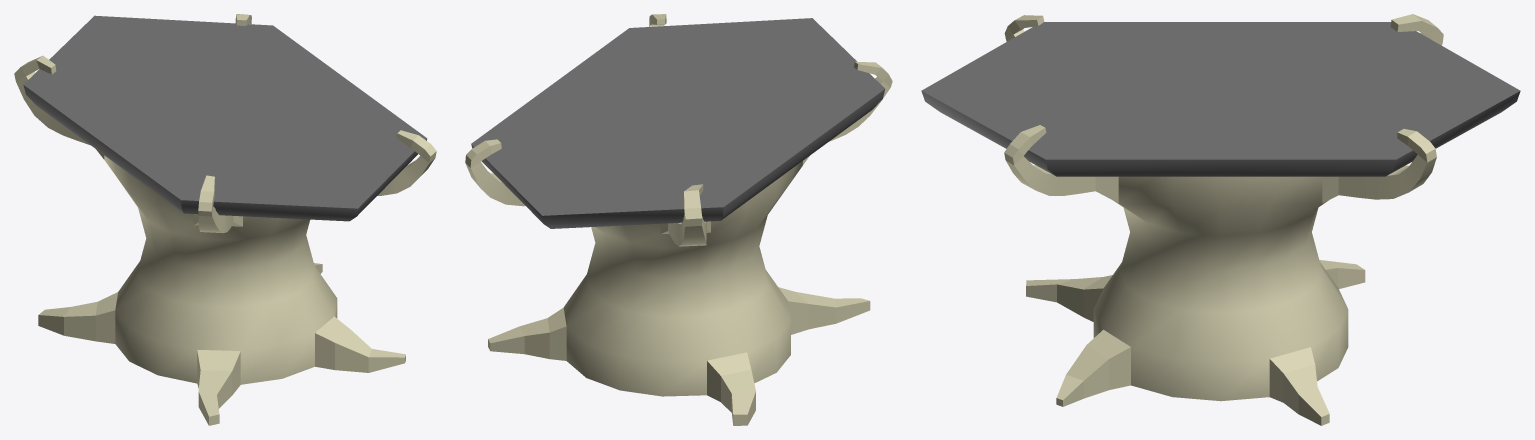
The model's file is MESA DE METAL.fbx.
3 views of the same model, side by side, from view 1: azimuth 30°, elevation 25°; view 2: azimuth 150°, elevation 25°; view 3: azimuth 270°, elevation 25° (orthographic). The views are drawn at different scales.
Visible parts, largest first — view 1: Mesa_de_metal3; view 2: Mesa_de_metal3; view 3: Mesa_de_metal3.
Part boxes in pixels (x1,y1,x2,y2): Mesa_de_metal3: [14, 14, 436, 425]; Mesa_de_metal3: [465, 14, 892, 425]; Mesa_de_metal3: [921, 14, 1520, 425].
Size of the model in its own units: 1.13 by 0.9959 by 1.93.
